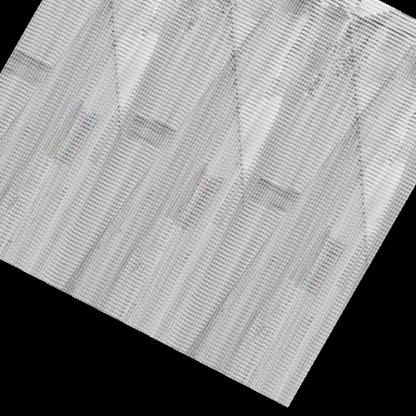Damage: (92, 90, 214, 184)
